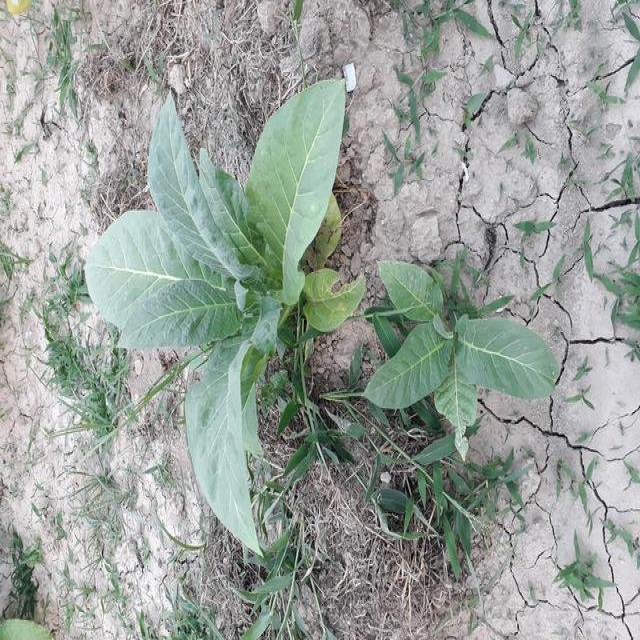crop: (76, 70, 363, 564)
